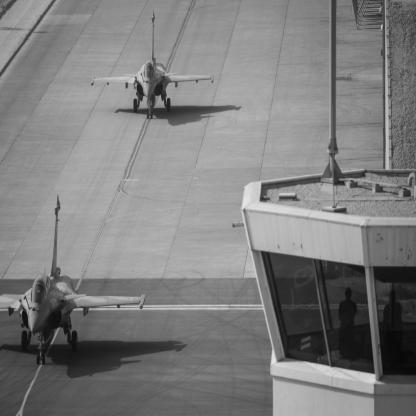Mirage2000: (1, 195, 147, 365)
Rafale: (92, 10, 215, 120)
